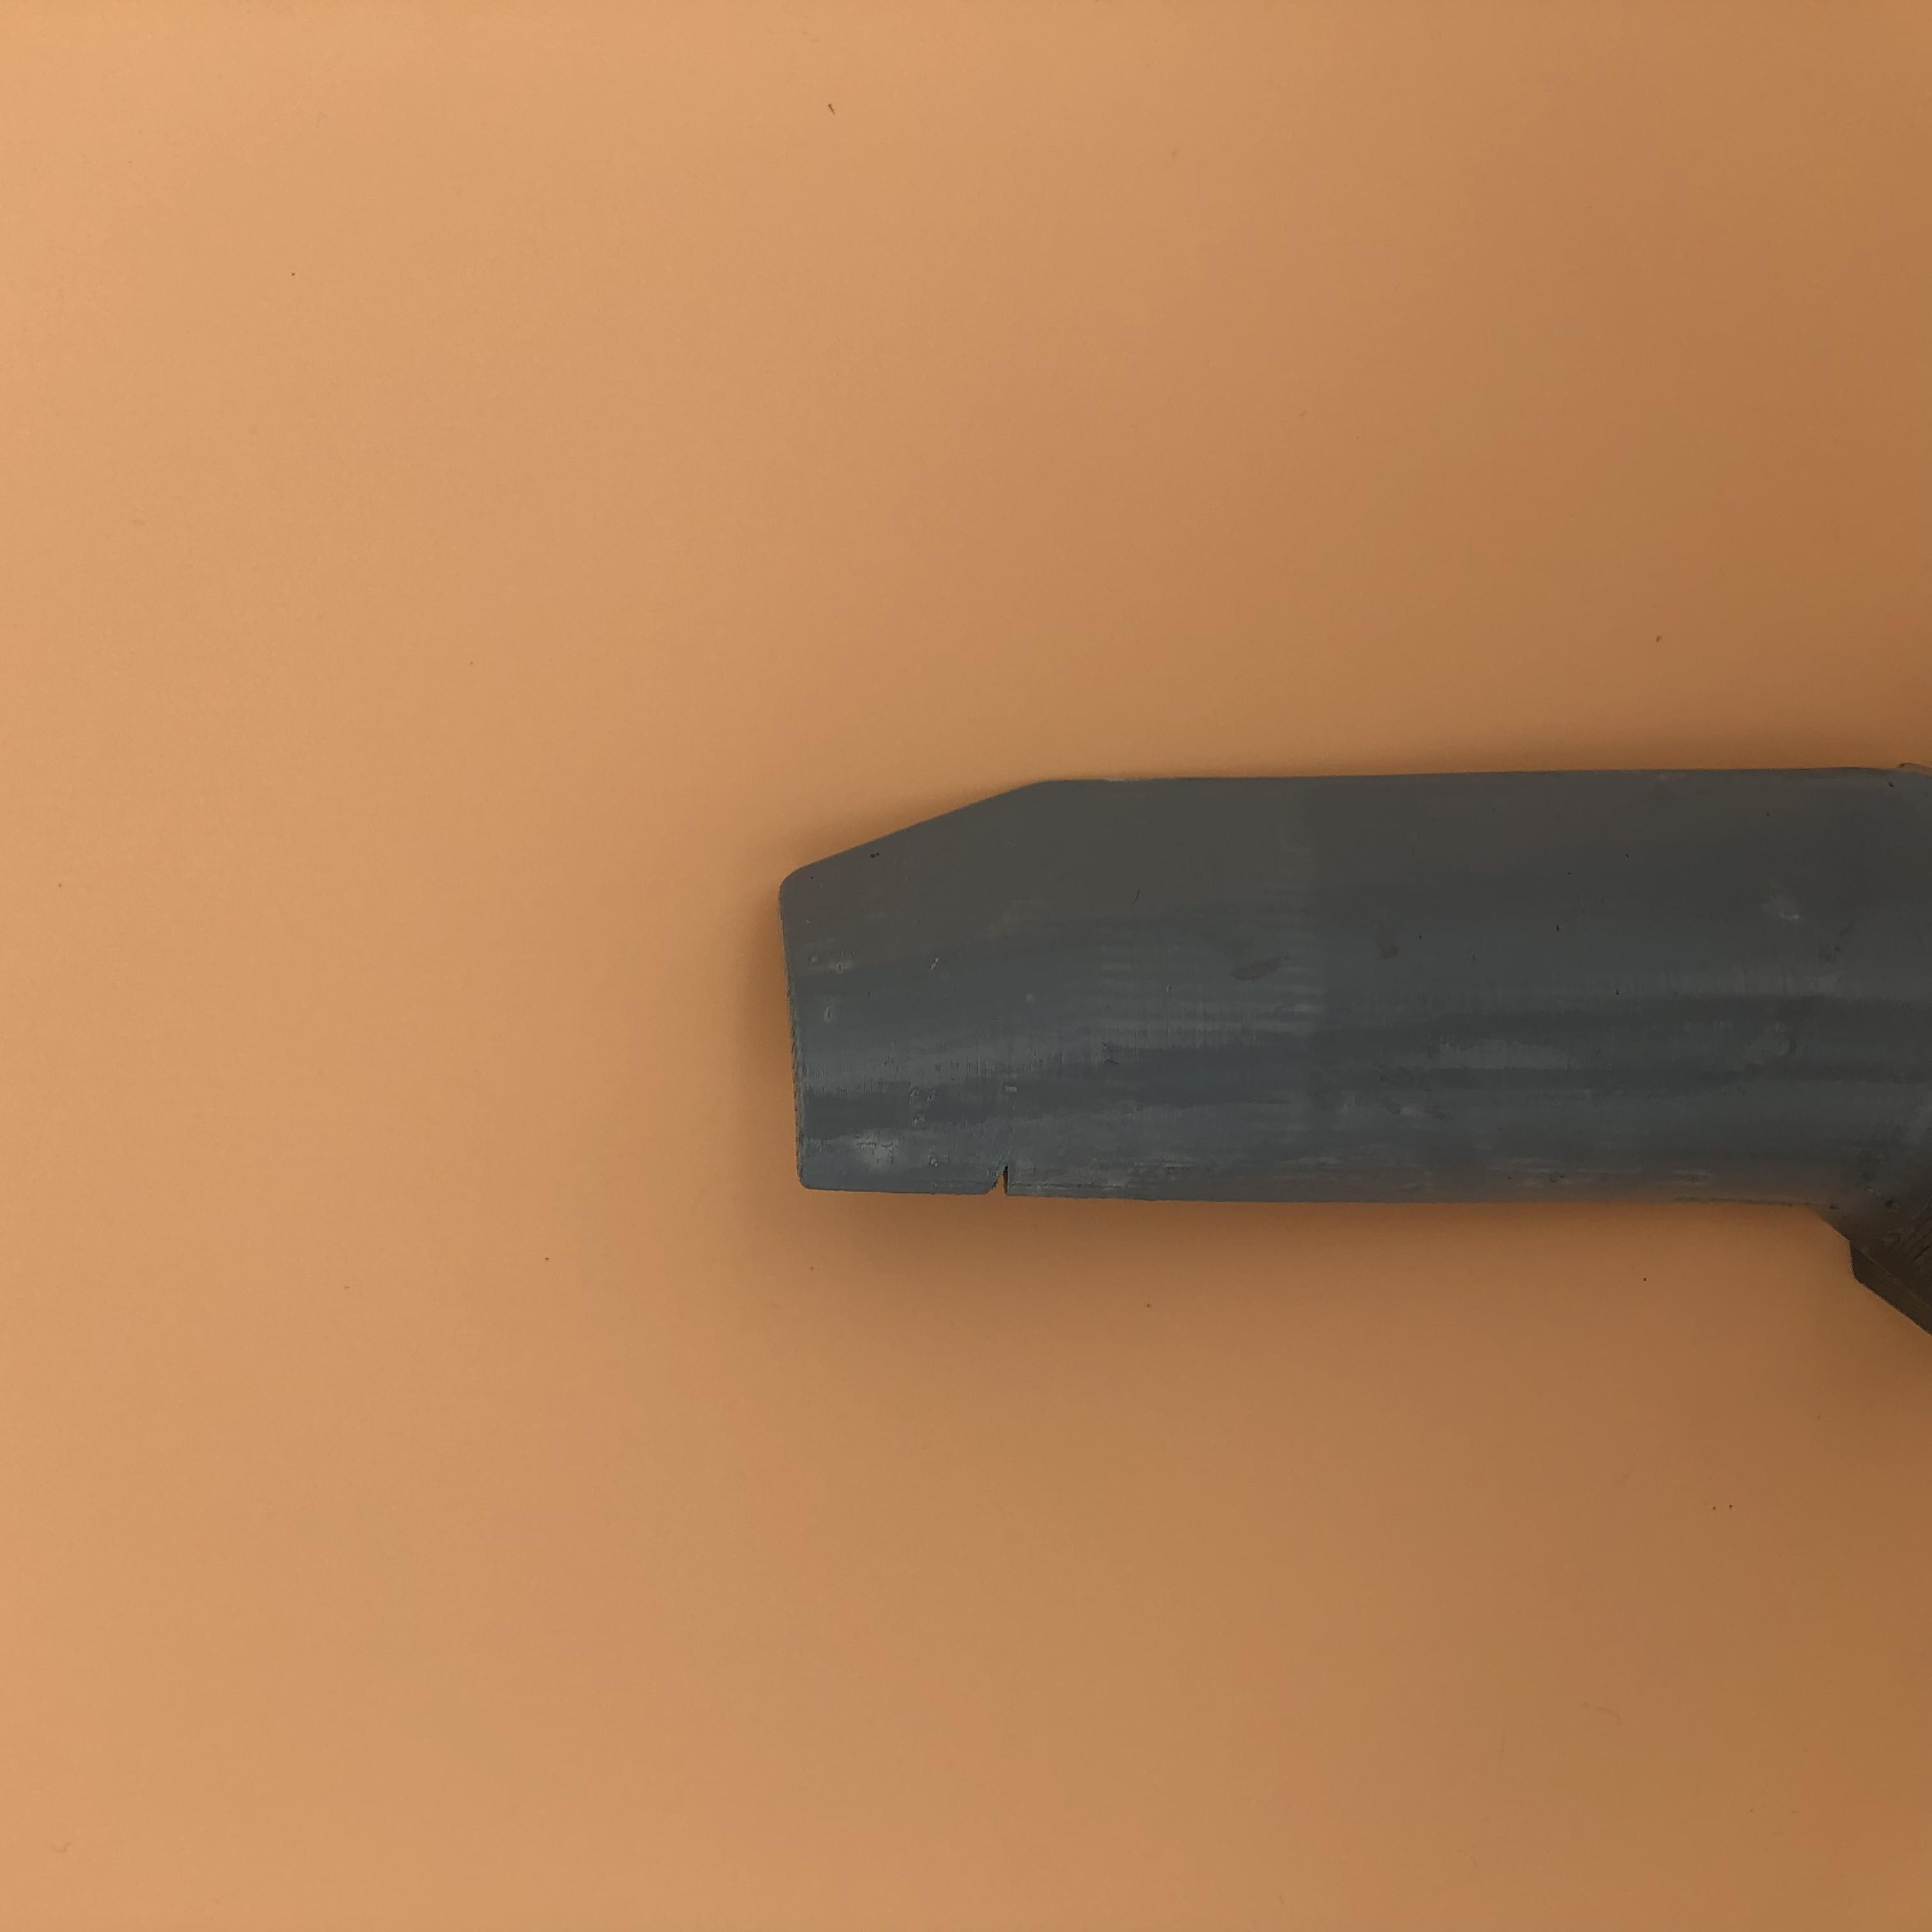groove: (980, 1166, 1037, 1198)
